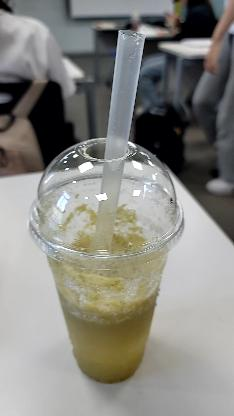Plastic Cup: (26, 137, 186, 385), (26, 138, 188, 266)
